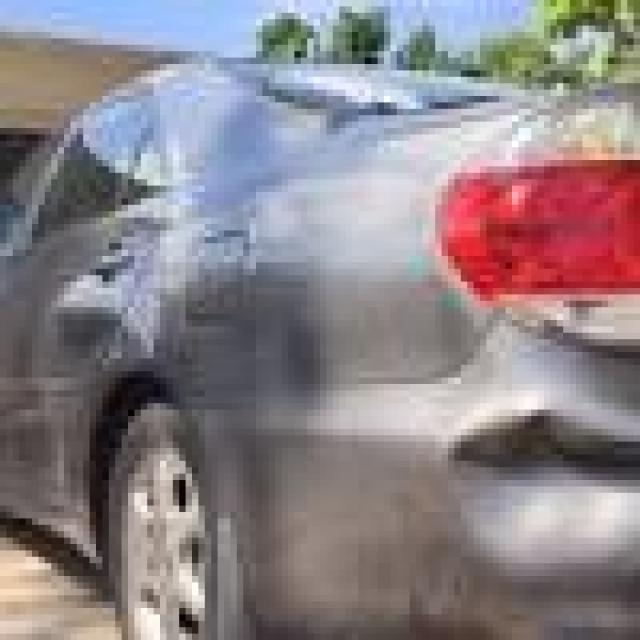minor: (152, 104, 563, 594)
